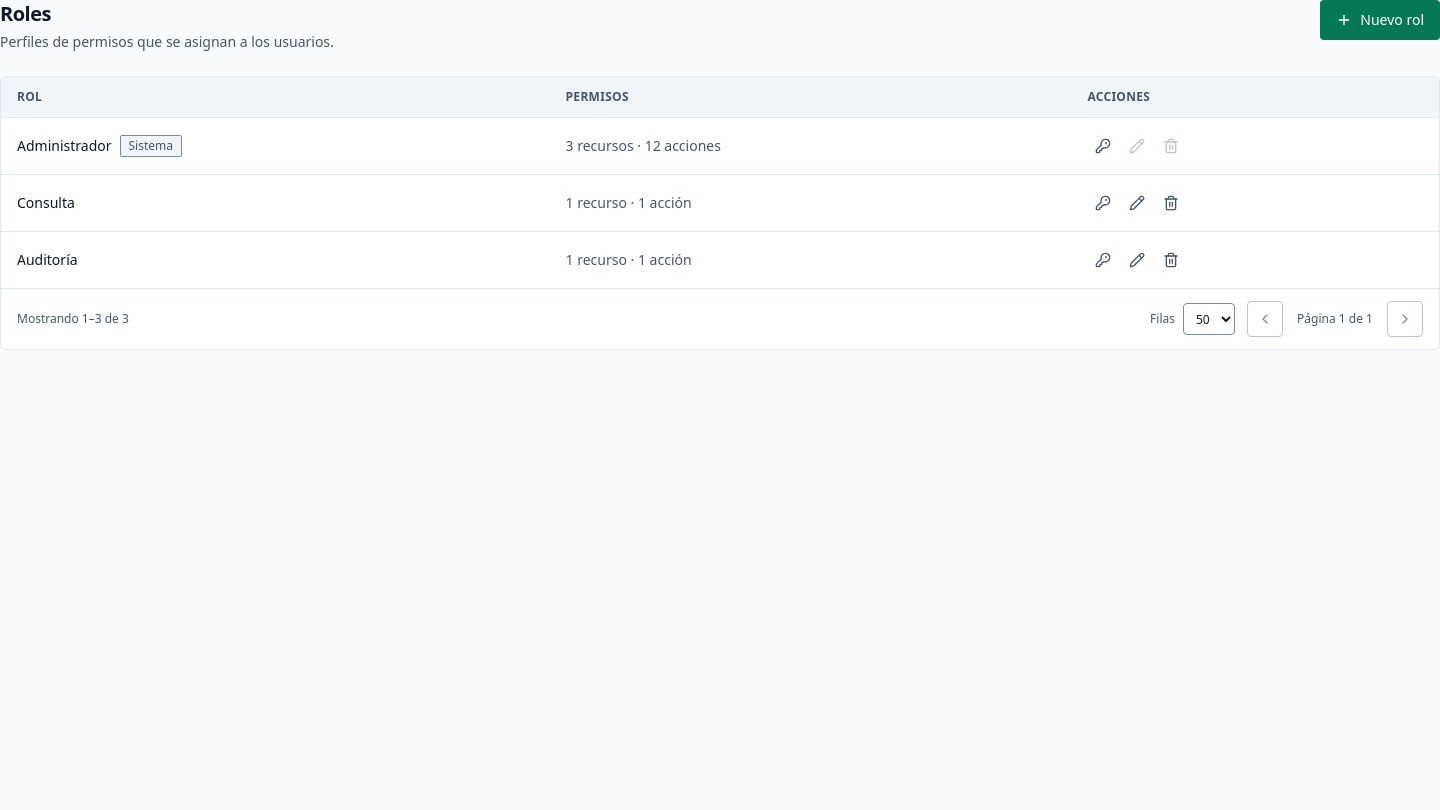
RolesPage · vista de árbol › colapsa una categoría y la saca del orden de tabulación
Expected: the cell "Consulta" is shown, [1,174,550,232]
Click the button named "Ver permisos de Consulta": (1103, 203) [1087,187,1119,219]
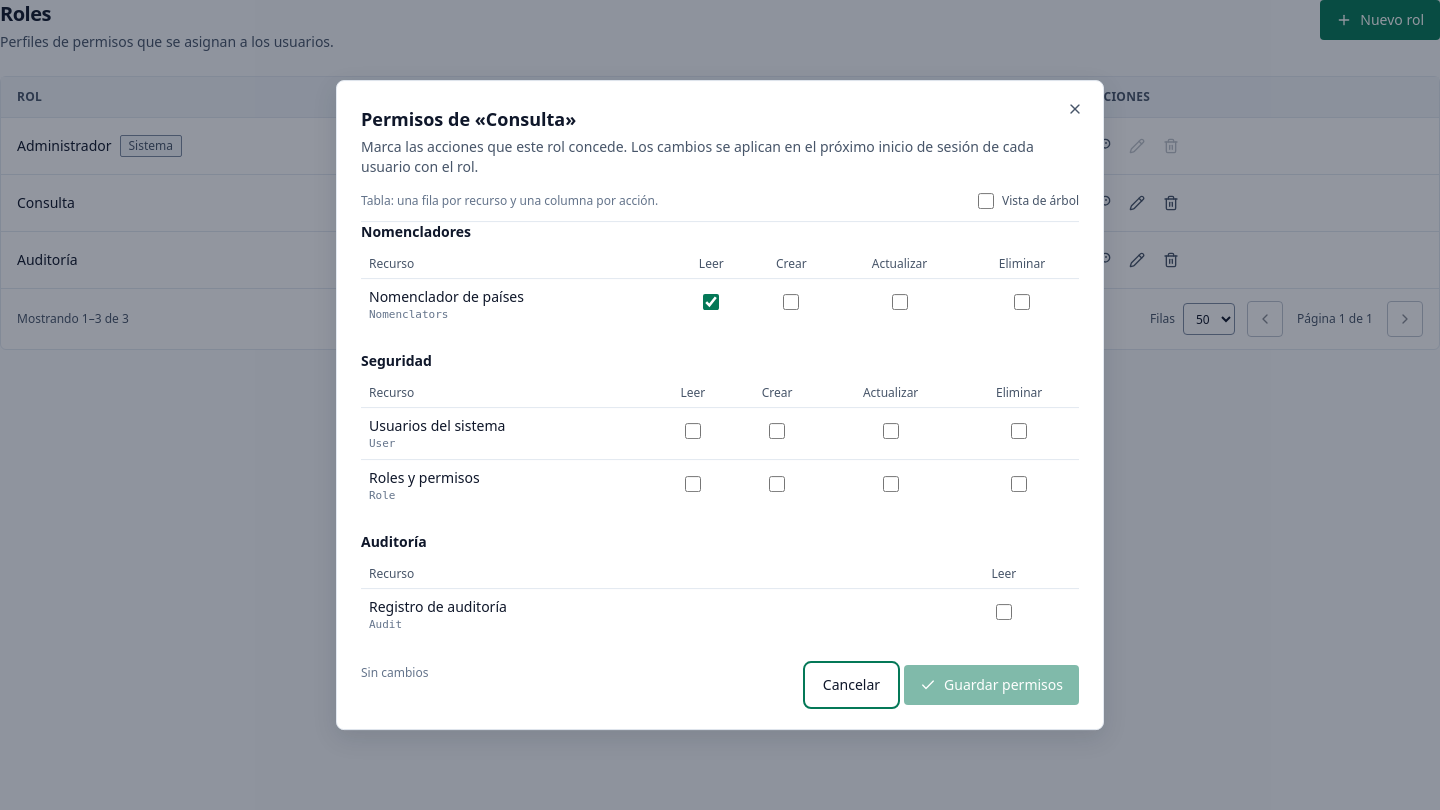
Click the checkbox labelled "Vista de árbol": (986, 201) [978,193,994,209]
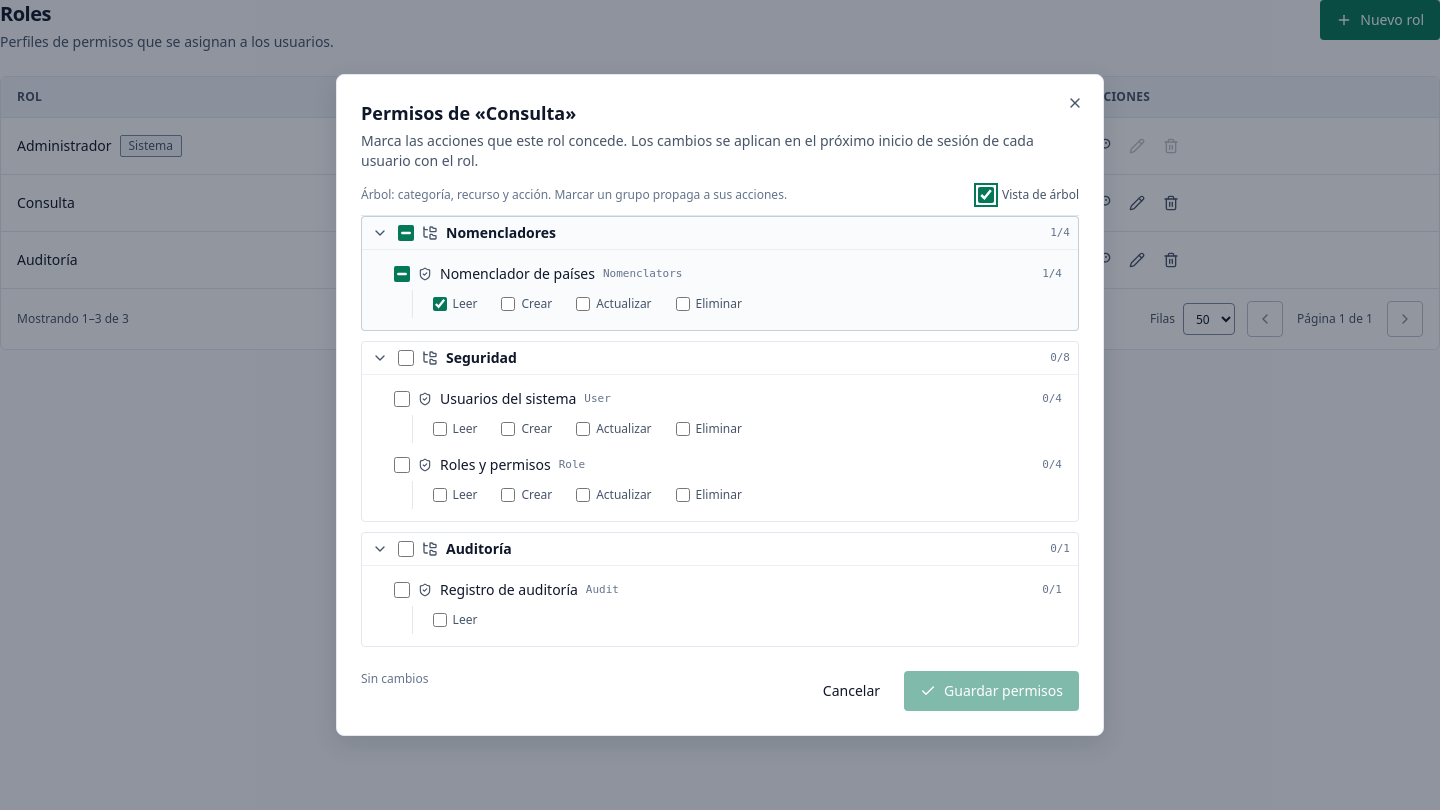
Click the button named "Contraer Nomencladores": (380, 233) [370,223,390,243]
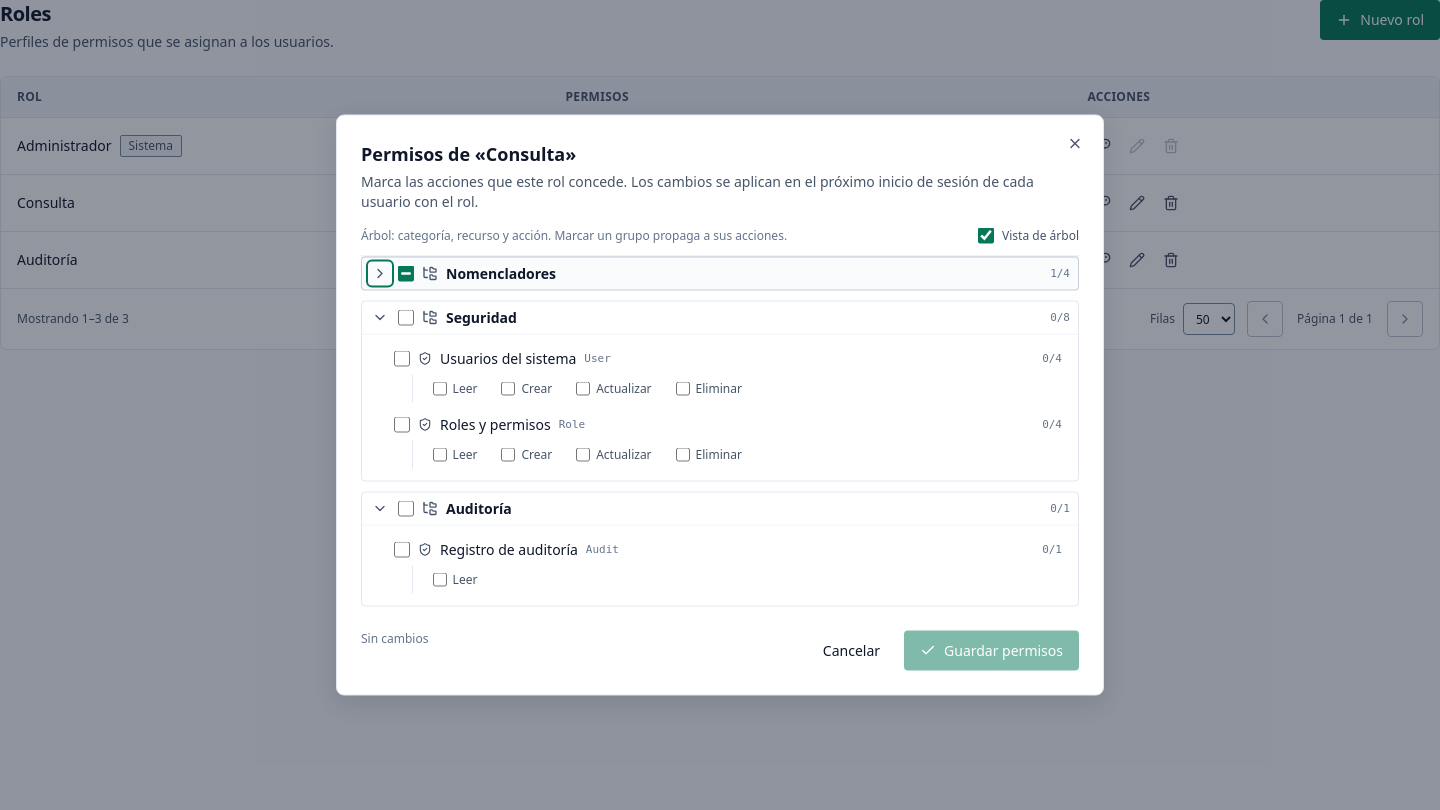
Now the button named "Expandir Nomencladores" is collapsed, box [370,264,390,284]
